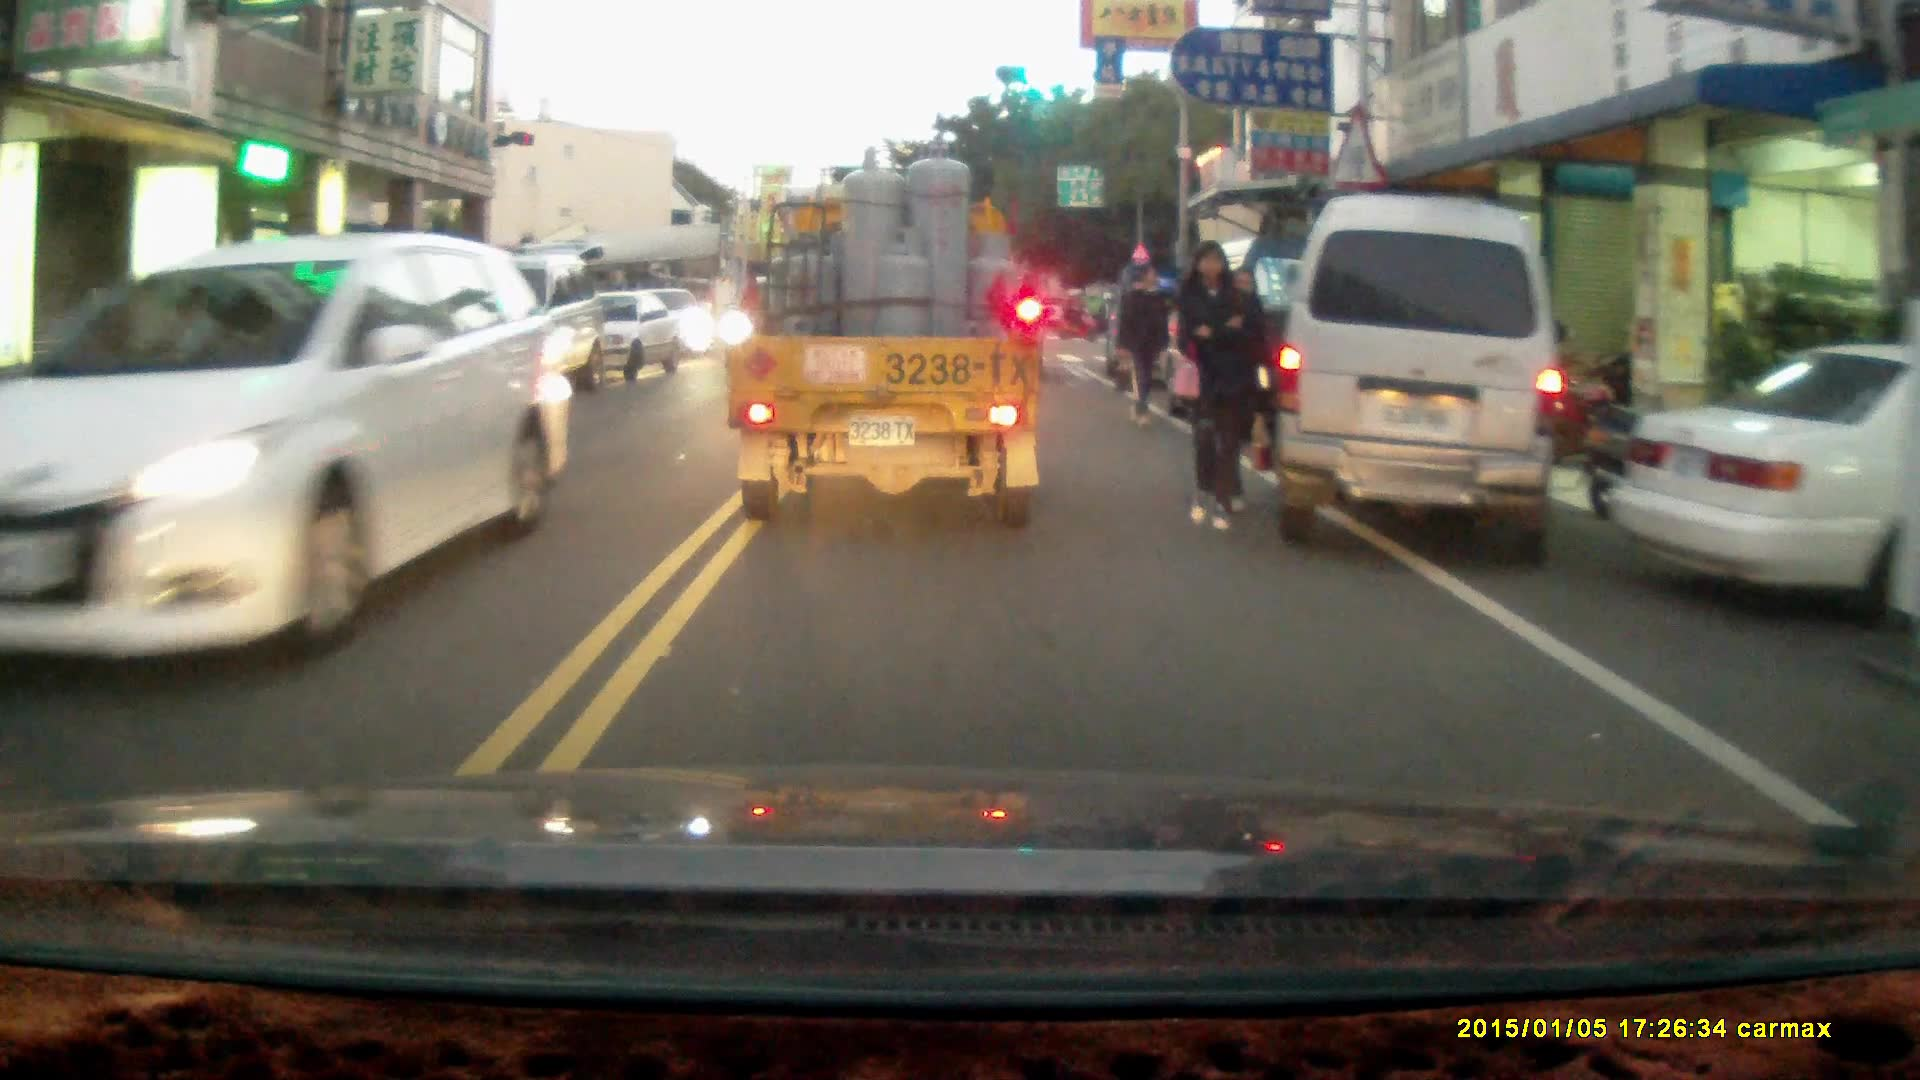pedestrian: (1174, 239, 1256, 535), (1117, 260, 1171, 426)
rider: (1057, 289, 1099, 342)
vehicle: (1, 234, 583, 651), (719, 139, 1050, 531), (1266, 194, 1568, 568), (1609, 343, 1920, 620), (396, 248, 609, 415), (539, 288, 685, 387)
